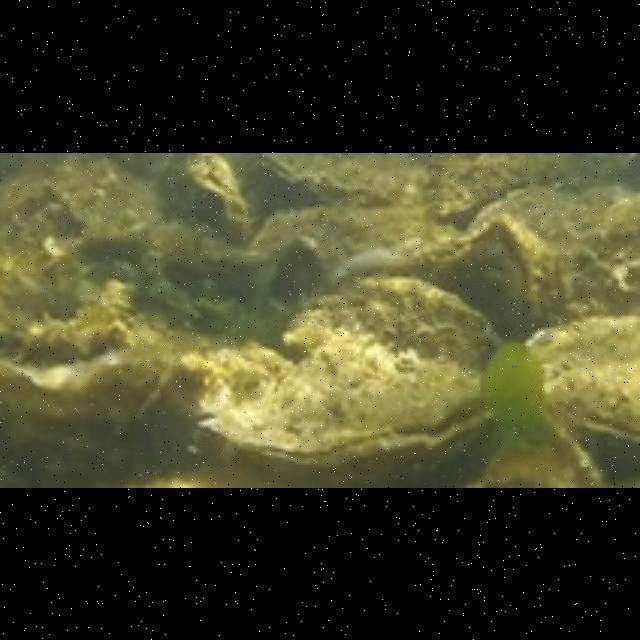Oyster-Closed: (196, 330, 491, 480), (278, 273, 504, 377), (247, 204, 464, 302), (523, 314, 640, 447), (470, 189, 598, 303), (0, 354, 168, 427), (464, 220, 563, 337), (255, 152, 421, 206), (477, 424, 605, 487), (166, 153, 253, 239), (323, 238, 470, 286), (275, 243, 324, 306)
